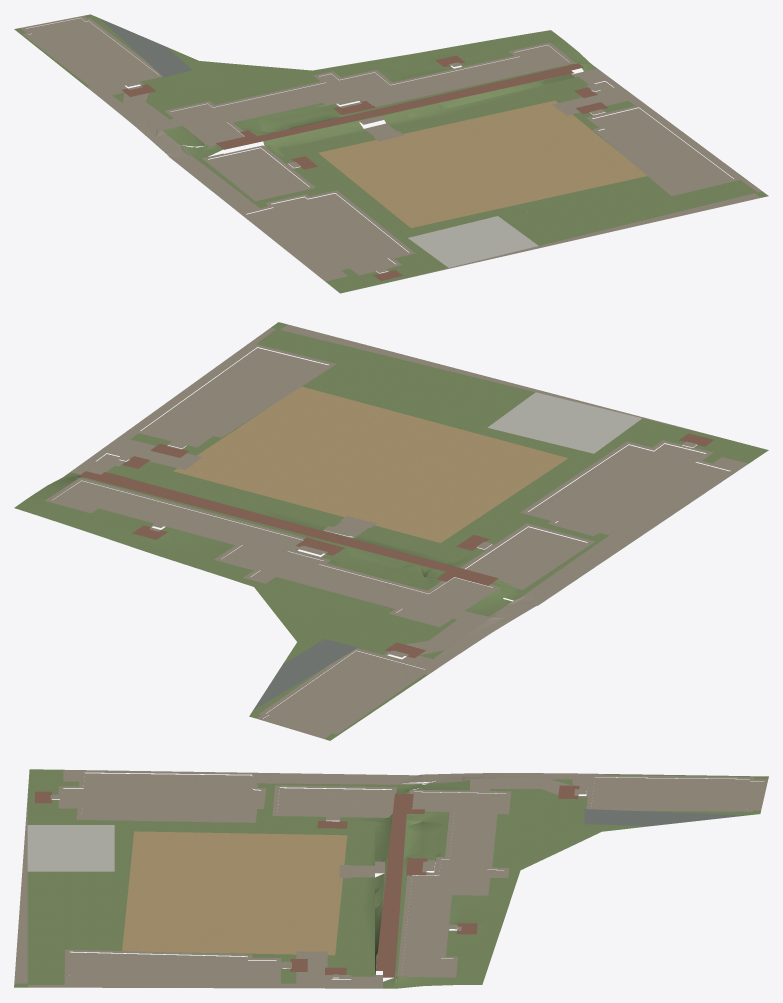
3 views of the same model, one above another, from view 1: azimuth 30°, elevation 25°; view 2: azimuth 150°, elevation 25°; view 3: azimuth 270°, elevation 25° (orthographic). The views are drawn at different scales.
Parts seen in each view (by area): view 1: surface_school-garden-ground, surface_shared-field, surface_underbuilding-main, surface_underbuilding-euncheon, surface_futsal-court, surface_underbuilding-mido, surface_underbuilding-kium, surface_basketball-court, surface_western-walk, surface_main-stand-base, surface_main-front-apron, surface_underbuilding-dining (+9 smaller); view 2: surface_school-garden-ground, surface_shared-field, surface_underbuilding-main, surface_underbuilding-euncheon, surface_futsal-court, surface_underbuilding-mido, surface_underbuilding-kium, surface_basketball-court, surface_western-walk, surface_main-front-apron, surface_main-stand-base, surface_underbuilding-dining (+9 smaller); view 3: surface_school-garden-ground, surface_shared-field, surface_underbuilding-main, surface_underbuilding-euncheon, surface_futsal-court, surface_underbuilding-mido, surface_underbuilding-kium, surface_basketball-court, surface_western-walk, surface_main-stand-base, surface_main-front-apron, surface_underbuilding-dining (+9 smaller).
Boxes of the visible parts, x1,y1,x2,y2 form: surface_school-garden-ground: (14, 14, 768, 293); surface_shared-field: (318, 100, 646, 227); surface_underbuilding-main: (171, 45, 568, 144); surface_underbuilding-euncheon: (247, 193, 408, 272); surface_futsal-court: (503, 177, 689, 244); surface_underbuilding-mido: (593, 108, 733, 193); surface_underbuilding-kium: (26, 18, 158, 88); surface_basketball-court: (408, 216, 538, 267); surface_western-walk: (87, 85, 347, 281); surface_main-stand-base: (279, 76, 588, 157); surface_main-front-apron: (215, 63, 583, 149); surface_underbuilding-dining: (209, 148, 308, 198); surface_school-garden-ground: (14, 322, 768, 740); surface_shared-field: (173, 386, 567, 542); surface_underbuilding-main: (53, 481, 492, 623); surface_underbuilding-euncheon: (528, 444, 729, 537); surface_futsal-court: (306, 348, 527, 427); surface_underbuilding-mido: (141, 348, 327, 444); surface_underbuilding-kium: (263, 651, 424, 736); surface_basketball-court: (487, 392, 641, 453); surface_western-walk: (420, 457, 748, 674); surface_main-front-apron: (79, 471, 498, 585); surface_main-stand-base: (106, 466, 468, 561); surface_underbuilding-dining: (466, 527, 586, 586); surface_school-garden-ground: (14, 769, 768, 988); surface_shared-field: (122, 831, 347, 955); surface_underbuilding-main: (402, 792, 506, 975); surface_underbuilding-euncheon: (63, 773, 261, 820); surface_futsal-court: (27, 875, 118, 949); surface_underbuilding-mido: (69, 952, 276, 984); surface_underbuilding-kium: (591, 777, 763, 809); surface_basketball-court: (27, 825, 114, 871); surface_western-walk: (63, 769, 603, 784); surface_main-stand-base: (351, 821, 374, 976); surface_main-front-apron: (376, 794, 424, 977); surface_underbuilding-dining: (277, 788, 391, 815).
Bounding box in the file's own units: 132 × 1.85 × 191.
Materials: 6 (5 with a texture image).
